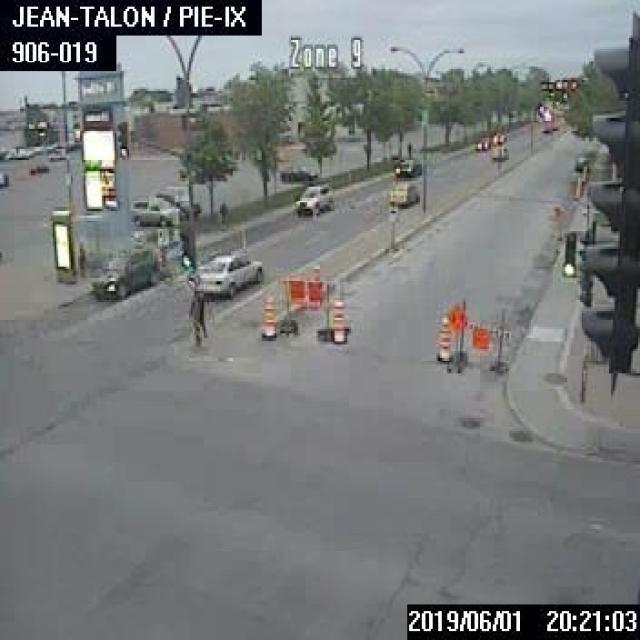construction: (445, 297, 509, 375), (277, 274, 349, 339), (329, 296, 347, 344), (435, 313, 449, 361), (260, 296, 274, 340)
pedestrian: (188, 287, 205, 346), (75, 239, 86, 277), (218, 197, 226, 228), (406, 140, 410, 155)
vehicle: (88, 243, 160, 299), (187, 249, 260, 296), (128, 196, 185, 224), (154, 190, 200, 217), (294, 183, 332, 214), (387, 180, 419, 204), (278, 164, 319, 182), (392, 156, 421, 176), (492, 144, 507, 160), (491, 130, 506, 144), (474, 136, 489, 150), (28, 162, 47, 172), (0, 170, 7, 185)
